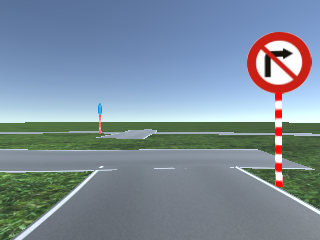10: (1, 189, 320, 238)
NoRight: (246, 31, 313, 93)
